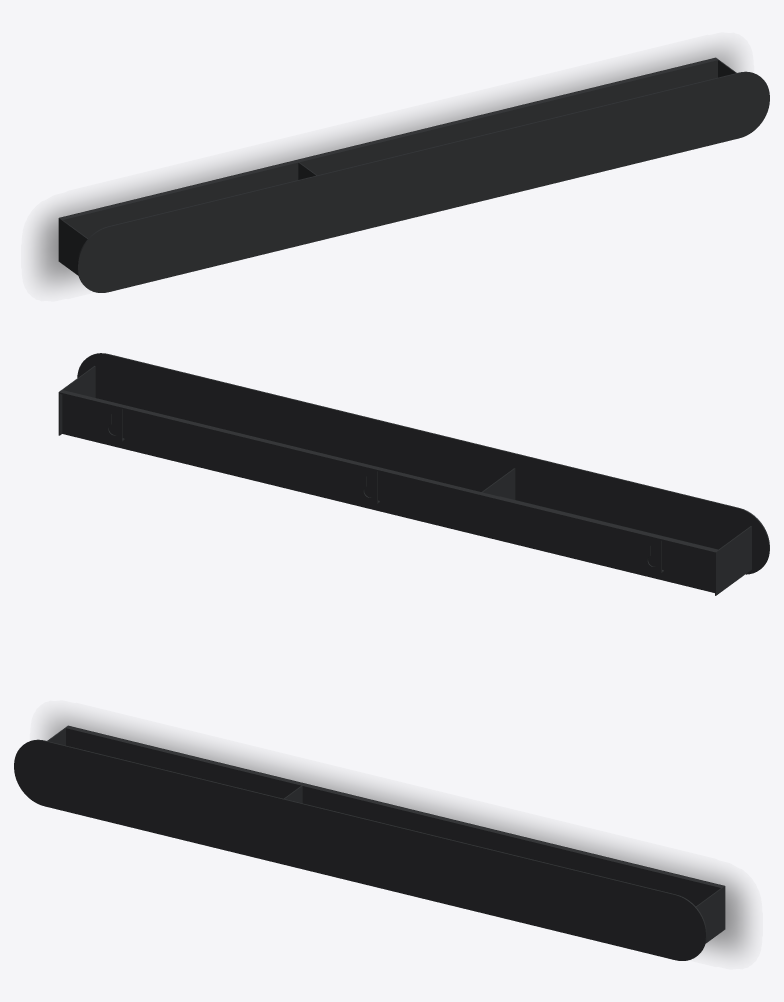
File: round-double.440650be64.ar.glb
3 views of the same model, one above another, from view 1: azimuth 30°, elevation 25°; view 2: azimuth 150°, elevation 25°; view 3: azimuth 330°, elevation 25° (orthographic).
Visible parts, largest first — view 1: NAUO1, object 2; view 2: NAUO1; view 3: NAUO1, object 2.
Part boxes in pixels (x1,y1,x2,y2): NAUO1: [58, 57, 769, 292]; object 2: [35, 48, 739, 285]; NAUO1: [58, 353, 769, 595]; NAUO1: [14, 725, 725, 960]; object 2: [44, 716, 748, 953].
Size of the model in its own units: 1.08 by 0.17 by 0.092.
Materials: 2 (1 with a texture image).
